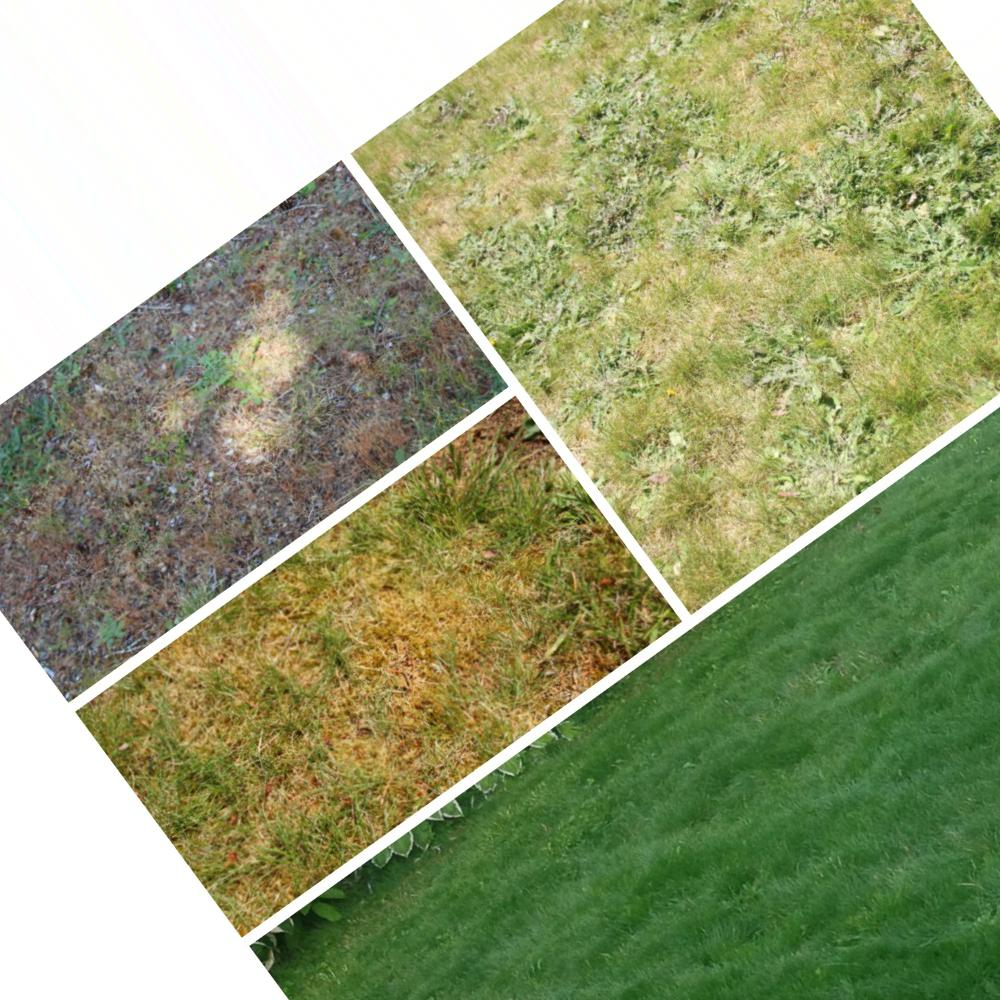patch: (636, 301, 774, 536), (294, 581, 467, 766), (694, 41, 858, 145), (222, 315, 296, 470)
